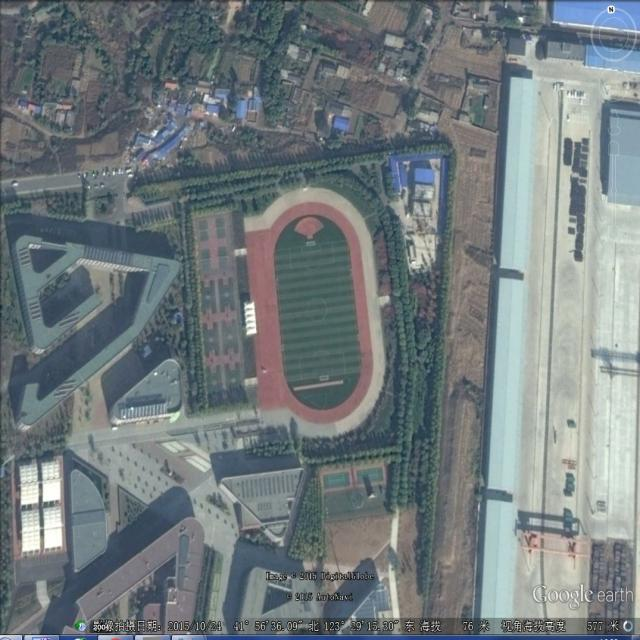playground: (243, 199, 376, 428)
